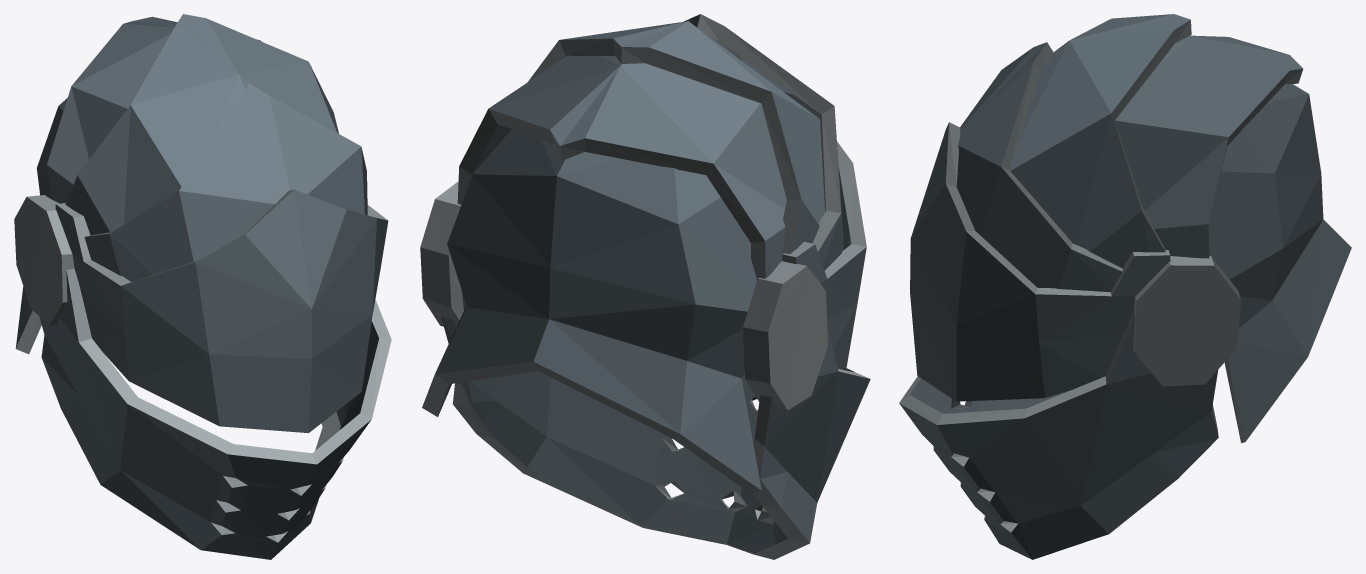
File: ironHelm.glb
The picture shows the model from 3 angles, left to right: view 1: azimuth 30°, elevation 25°; view 2: azimuth 150°, elevation 25°; view 3: azimuth 270°, elevation 25°; orthographic projection. The views are drawn at different scales.
Visible parts, largest first — view 1: ironHelm; view 2: ironHelm; view 3: ironHelm.
Part boxes in pixels (x1,y1,x2,y2): ironHelm: (14, 14, 391, 559); ironHelm: (420, 14, 870, 559); ironHelm: (899, 14, 1351, 559).
Bounding box in the file's own units: 0.6368 × 1 × 0.7829.
